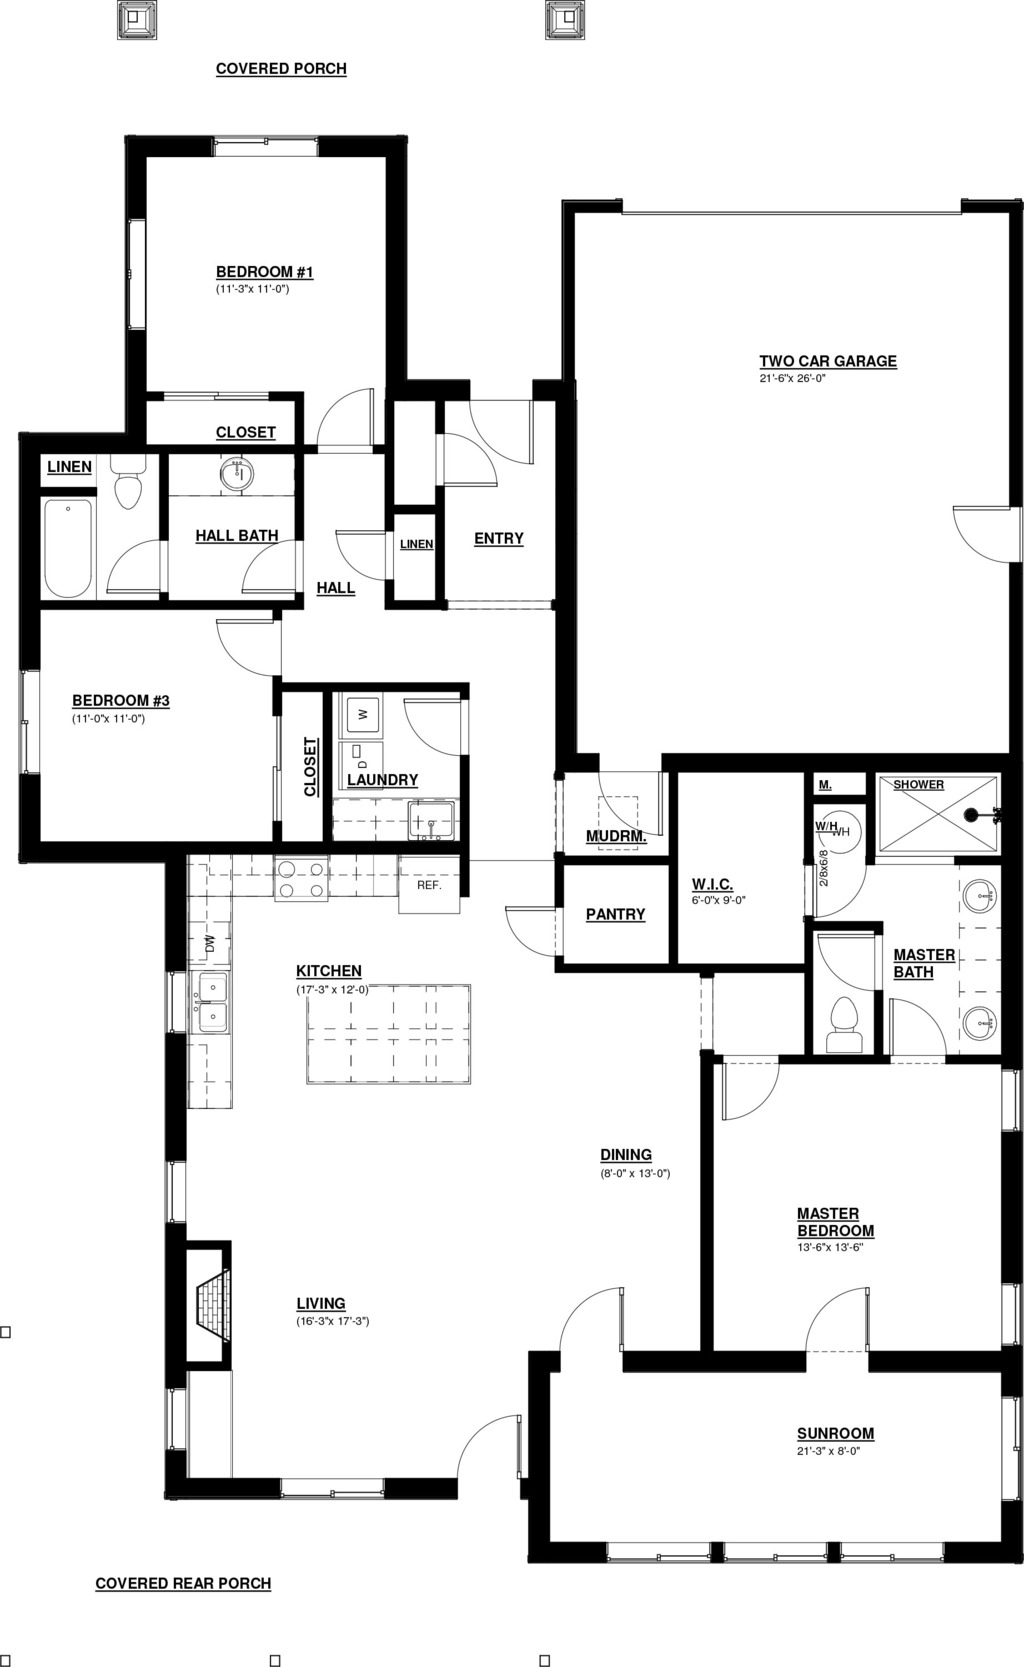door: (202, 591, 300, 695), (862, 975, 957, 1076), (539, 1275, 636, 1371), (685, 1042, 789, 1129), (477, 895, 580, 975), (441, 1413, 531, 1503), (803, 1285, 888, 1376), (393, 672, 475, 767), (941, 483, 1024, 573), (300, 385, 385, 466), (105, 529, 193, 606), (472, 377, 541, 470), (244, 529, 339, 595), (423, 419, 498, 495), (803, 931, 893, 993), (803, 853, 875, 916), (341, 536, 388, 608)
large_sink: (795, 957, 870, 1062), (95, 444, 157, 522)
small_sink: (949, 862, 1011, 1060), (167, 457, 295, 488)
twin_sink: (182, 944, 267, 1044)
window: (608, 1531, 944, 1588), (246, 1465, 398, 1516), (13, 657, 54, 783), (123, 208, 154, 366), (152, 1376, 213, 1451), (211, 131, 311, 175), (993, 1385, 1024, 1519)
